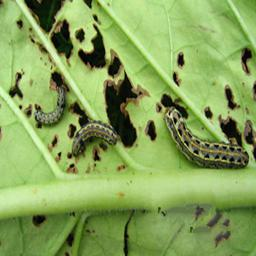Tobacco_budworm: (5, 1, 256, 177), (163, 107, 249, 169), (69, 120, 118, 158), (33, 81, 65, 127)
